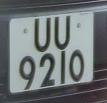0: (67, 48, 87, 86)
1: (57, 48, 69, 89)
2: (37, 52, 59, 89)
9: (16, 51, 39, 94)
U: (32, 14, 54, 56), (52, 13, 74, 52)
